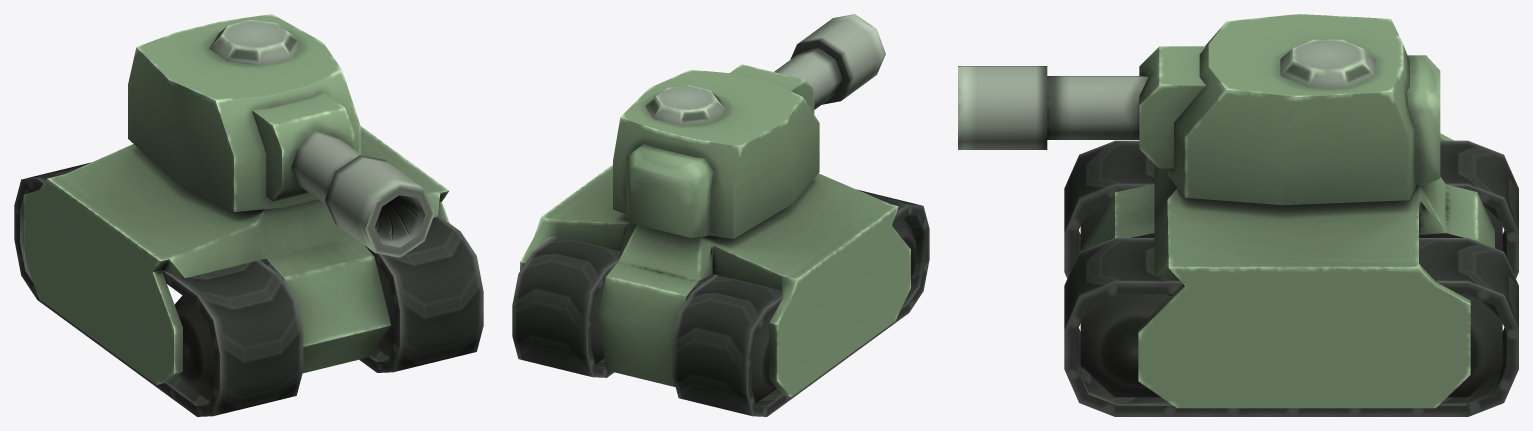
File: chibitank1.fbx
3 renders of one model, left to right at view 1: azimuth 30°, elevation 25°; view 2: azimuth 150°, elevation 25°; view 3: azimuth 270°, elevation 25°, orthographic. The views are drawn at different scales.
Parts seen in each view (by area): view 1: Cube.001; view 2: Cube.001; view 3: Cube.001.
Part boxes in pixels (box(x1,y1,x2,y2)): Cube.001: box(14, 14, 483, 416); Cube.001: box(512, 14, 929, 416); Cube.001: box(958, 14, 1518, 416).
Bounding box in the file's own units: 294 × 266 × 446.
Materials: 1 (1 with a texture image).
